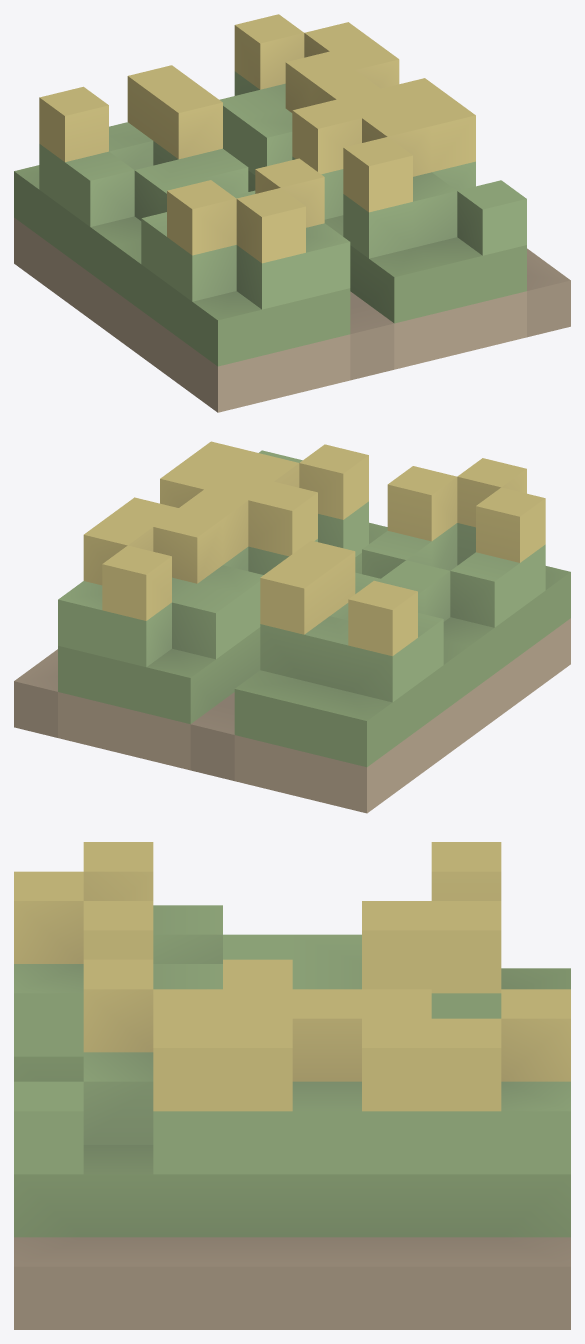
Rendered from woad_field.glb.
3 views of the same model, one above another, from view 1: azimuth 30°, elevation 25°; view 2: azimuth 150°, elevation 25°; view 3: azimuth 270°, elevation 25° (orthographic). The views are drawn at different scales.
Parts seen in each view (by area): view 1: woad_field; view 2: woad_field; view 3: woad_field.
Part boxes in pixels (box(x1,y1,x2,y2)): woad_field: box(14, 14, 570, 412); woad_field: box(14, 441, 570, 813); woad_field: box(14, 842, 570, 1329).
Size of the model in its own units: 1 by 0.5 by 1.
